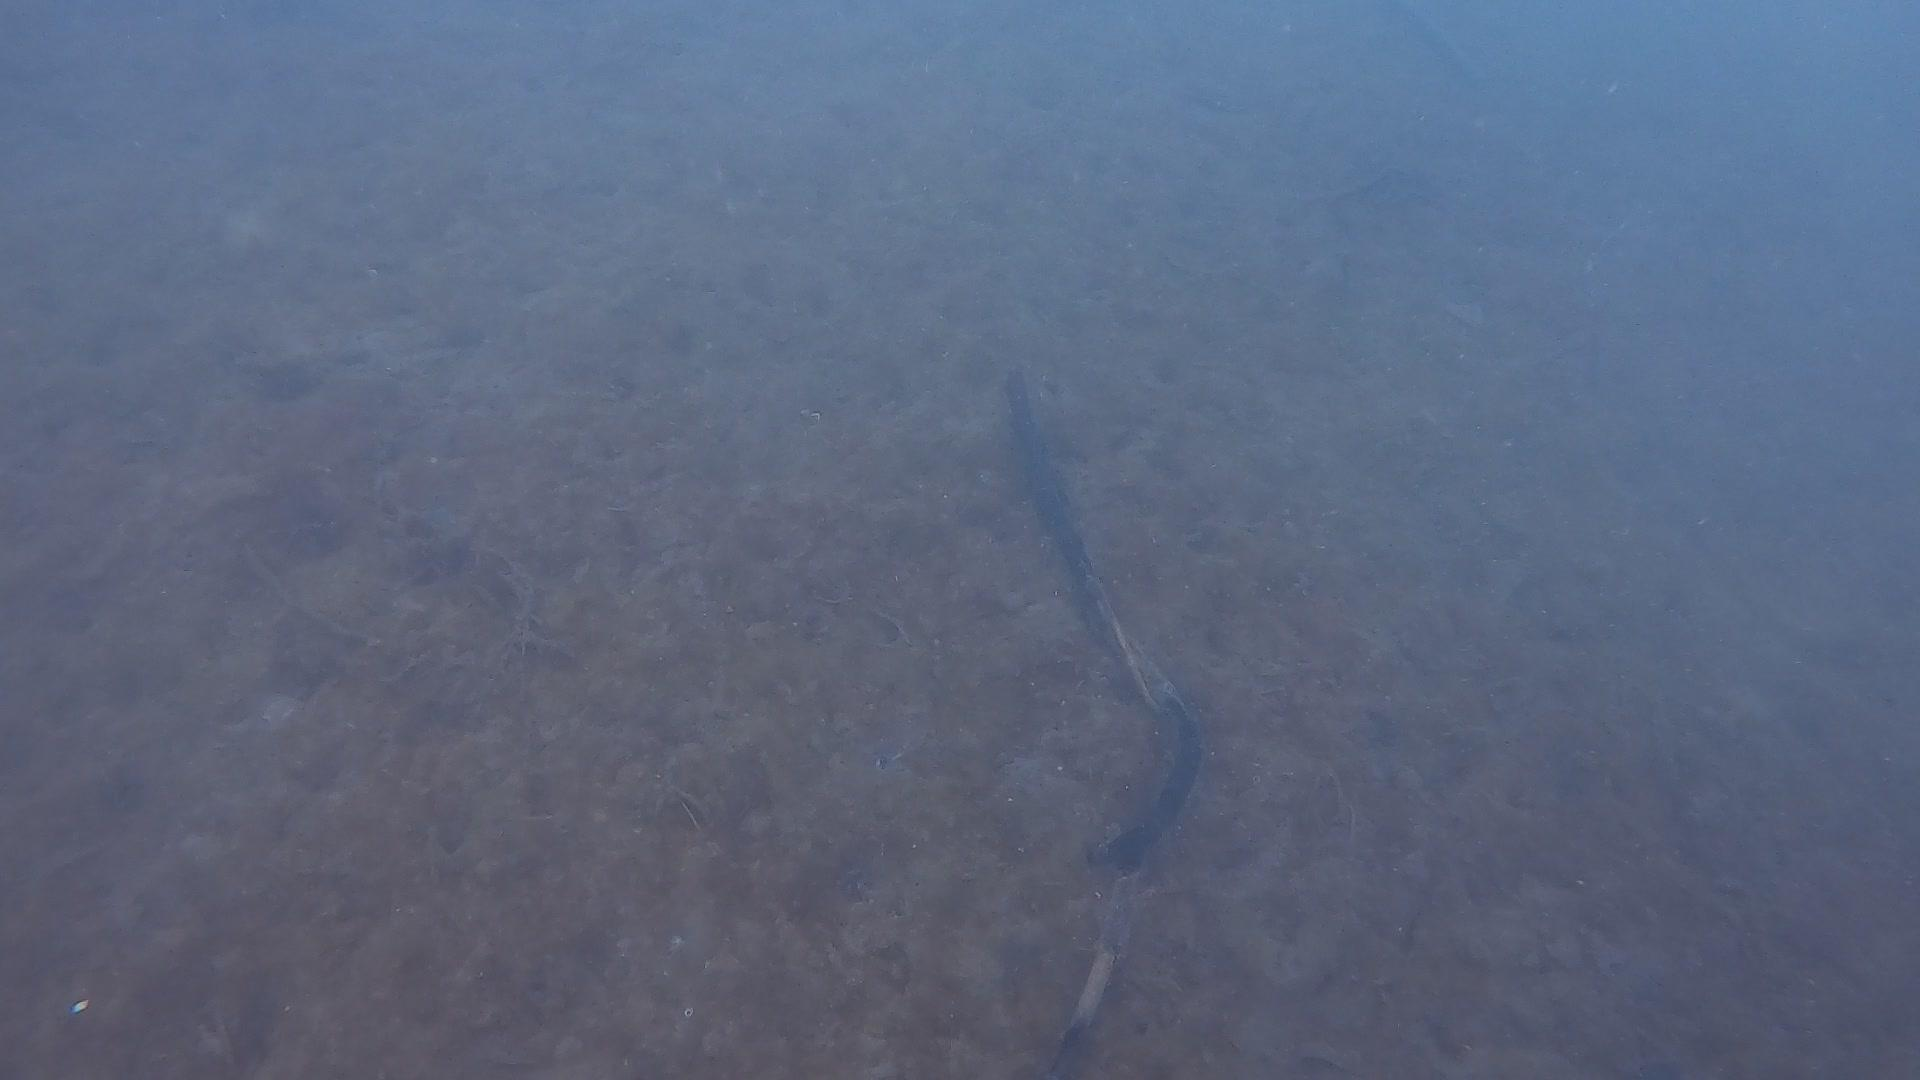wood: (1004, 376, 1208, 1035)
